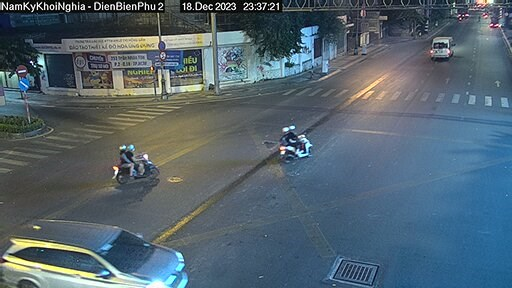car: (19, 203, 209, 288), (428, 26, 458, 63)
motorbike: (103, 142, 165, 179), (265, 123, 323, 154)
